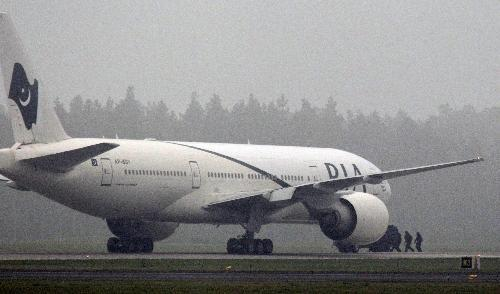airplane: (1, 10, 484, 247)
